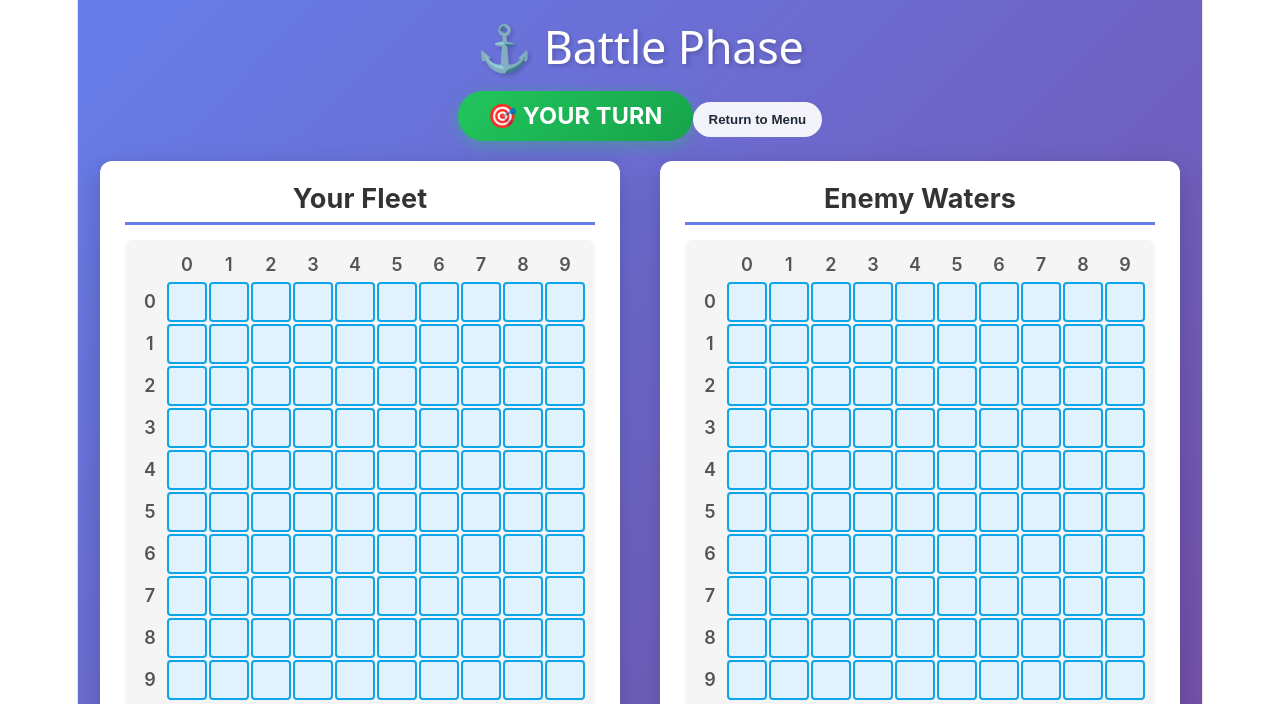
Test: BattlePhase Component › shows sunk feedback with ship name
Click the 11th element with class "cell" at x=747, y=302, box [727,282,767,322]
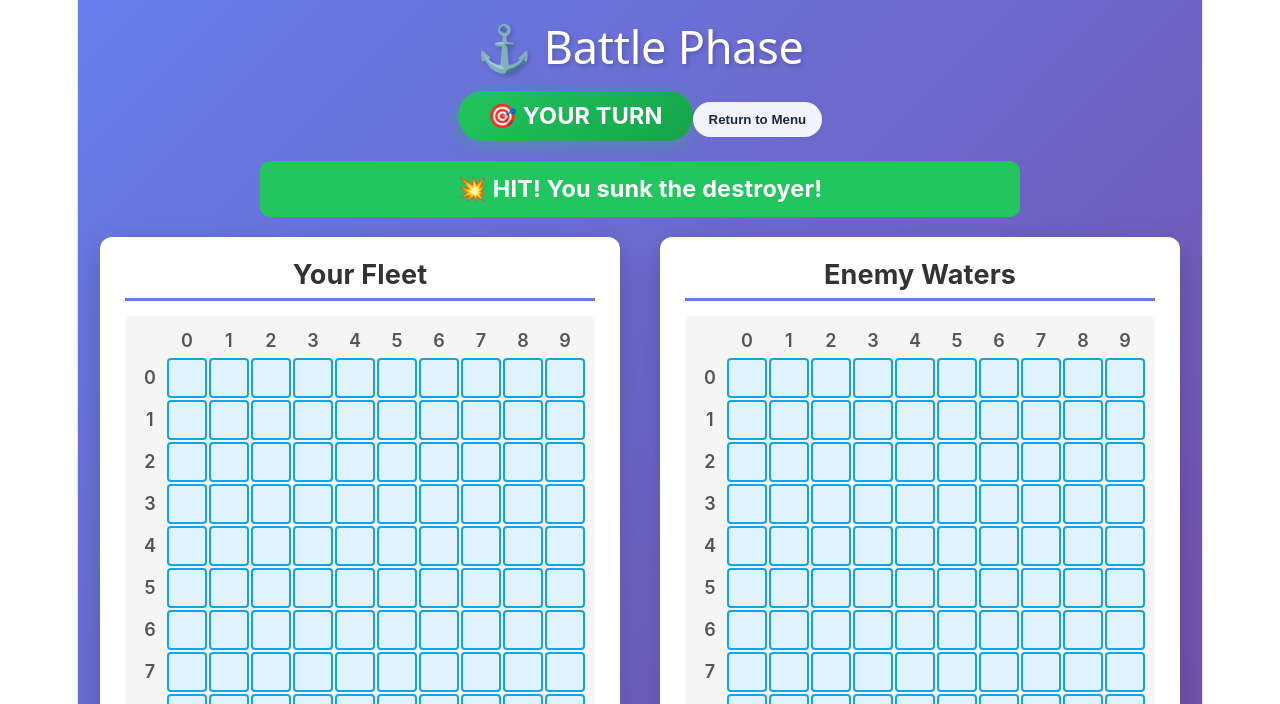
Expected: the text "💥 HIT! You sunk the destroyer!" is shown, [260,161,1020,217]
